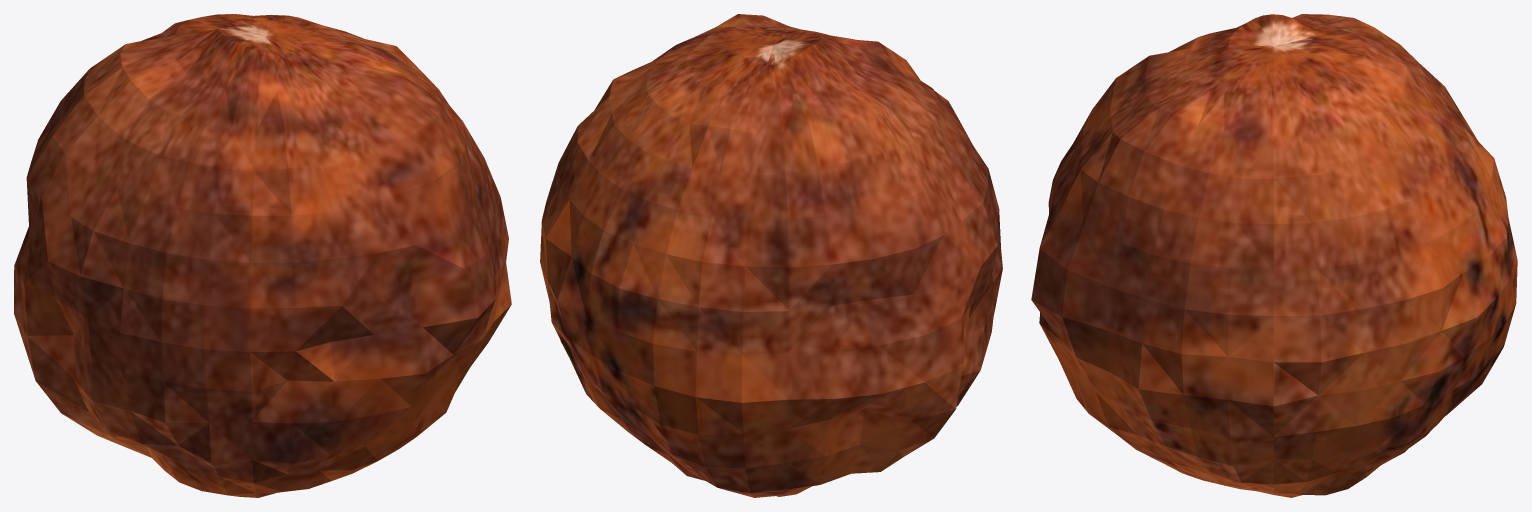
File: planeta1.fbx
3 renders of one model, left to right at view 1: azimuth 30°, elevation 25°; view 2: azimuth 150°, elevation 25°; view 3: azimuth 270°, elevation 25°, orthographic. The views are drawn at different scales.
Visible parts, largest first — view 1: Sphere.002; view 2: Sphere.002; view 3: Sphere.002.
Part boxes in pixels (x1,y1,x2,y2): Sphere.002: (14, 14, 511, 497); Sphere.002: (540, 14, 1002, 497); Sphere.002: (1031, 14, 1517, 497).
Bounding box in the file's own units: 1084 × 1068 × 1077.
Materials: 1 (1 with a texture image).
